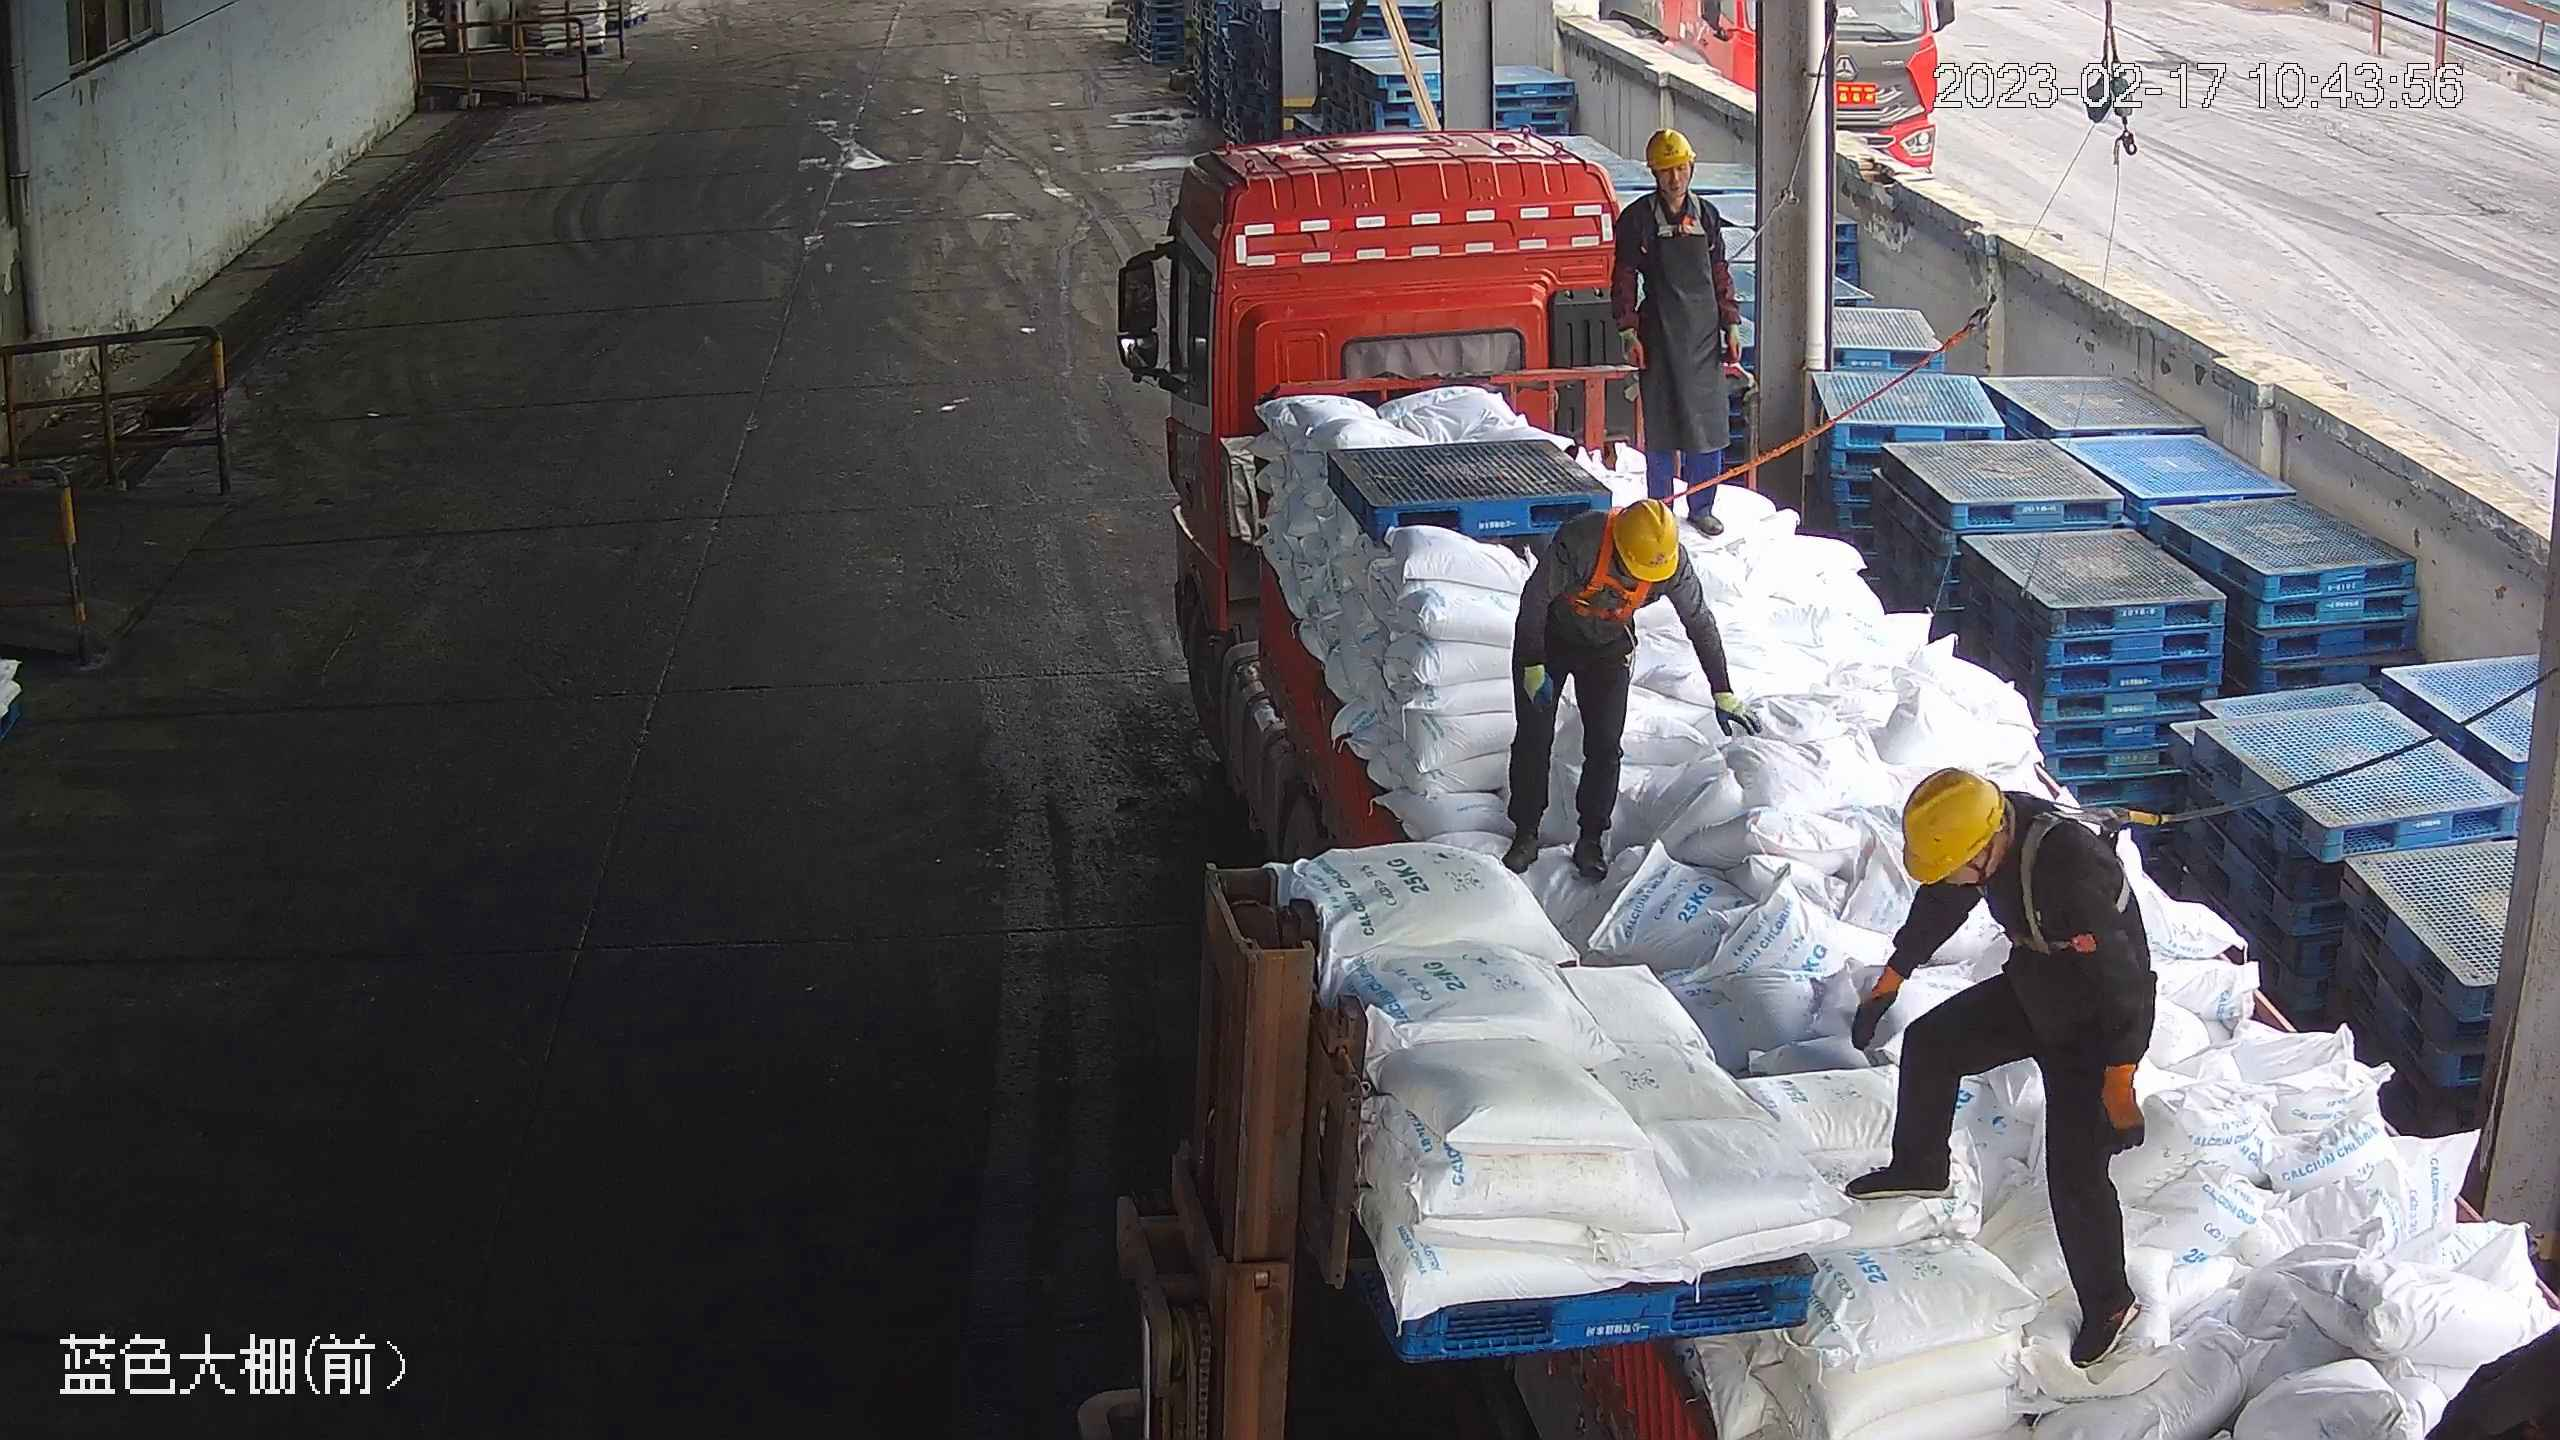belt: (1990, 783, 2141, 955), (1561, 498, 1675, 622)
head: (1897, 768, 2113, 926), (1529, 496, 1705, 617), (1614, 125, 1729, 253)
helmet: (1898, 768, 2008, 887), (1608, 494, 1685, 585), (1645, 125, 1698, 169)
people: (1847, 760, 2162, 1374), (1503, 494, 1740, 876), (1611, 122, 1747, 530)
truck: (1121, 117, 2557, 1440)
